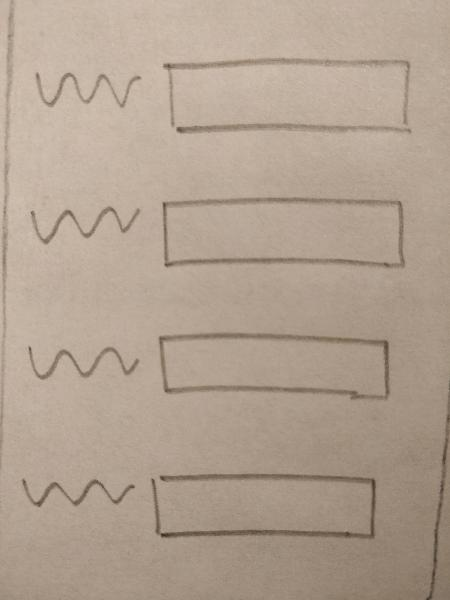text: (17, 332, 143, 385), (14, 462, 140, 515), (24, 196, 144, 250), (31, 63, 141, 117)
text_input: (157, 46, 423, 139), (151, 184, 417, 277), (153, 330, 398, 402), (142, 469, 387, 541)
